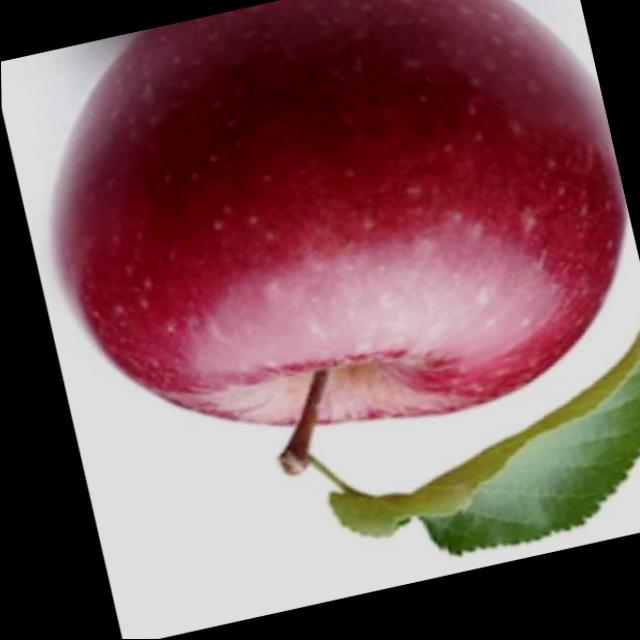Apple: (6, 0, 640, 495)
